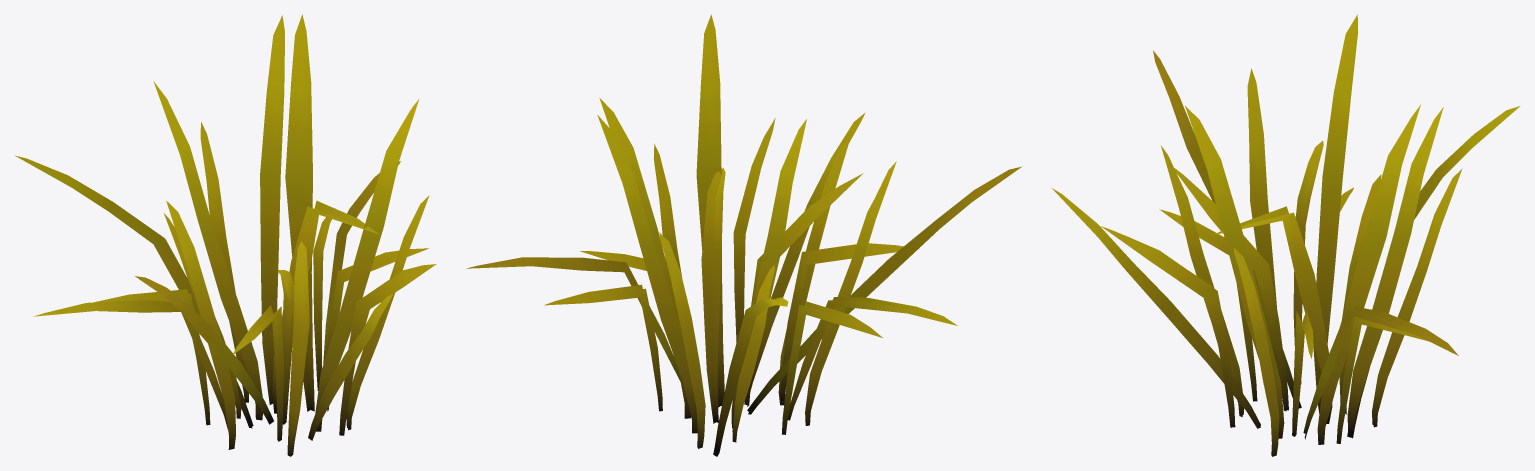
File: grass-3.glb
3 views of the same model, side by side, from view 1: azimuth 30°, elevation 25°; view 2: azimuth 150°, elevation 25°; view 3: azimuth 270°, elevation 25° (orthographic). The views are drawn at different scales.
Parts seen in each view (by area): view 1: Grass_Wispy_Short; view 2: Grass_Wispy_Short; view 3: Grass_Wispy_Short.
Part boxes in pixels (bbox=[...]): Grass_Wispy_Short: bbox=[15, 14, 436, 456]; Grass_Wispy_Short: bbox=[466, 14, 1021, 456]; Grass_Wispy_Short: bbox=[1052, 14, 1519, 456].
Bounding box in the file's own units: 0.3084 × 0.25 × 0.2822.
1 material, 1 textured.
